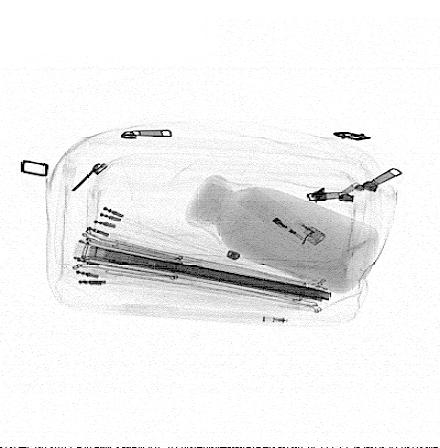Lighter: (240, 188, 328, 246)
